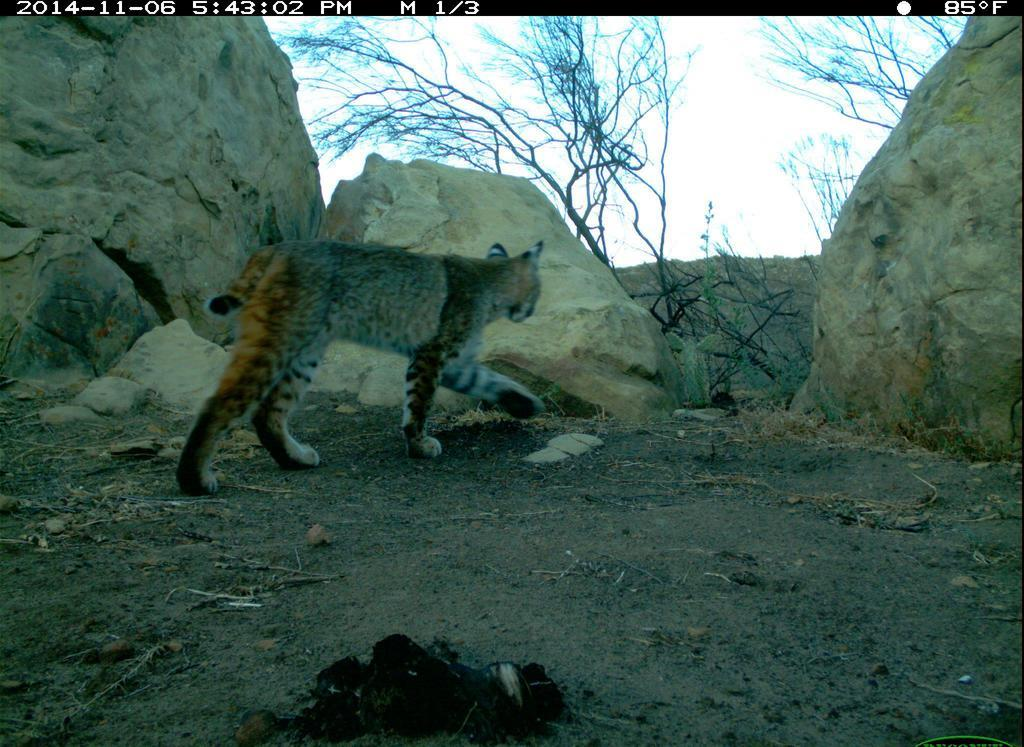bobcat: (187, 209, 577, 513)
